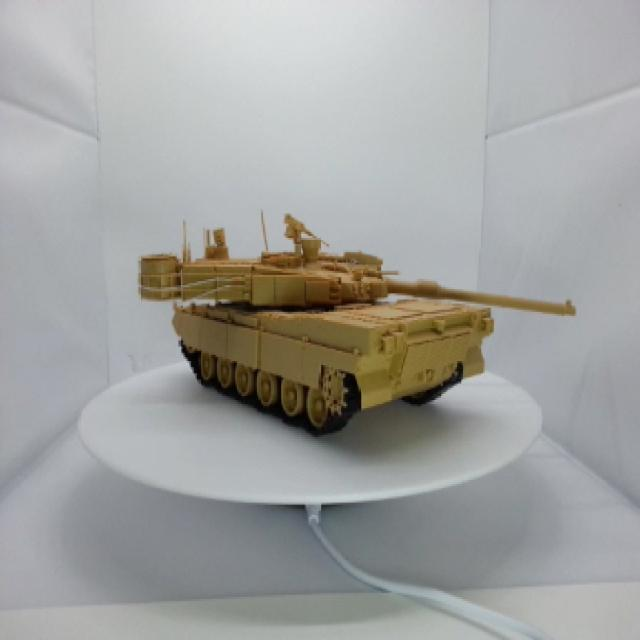korea tank: (123, 197, 599, 445)
